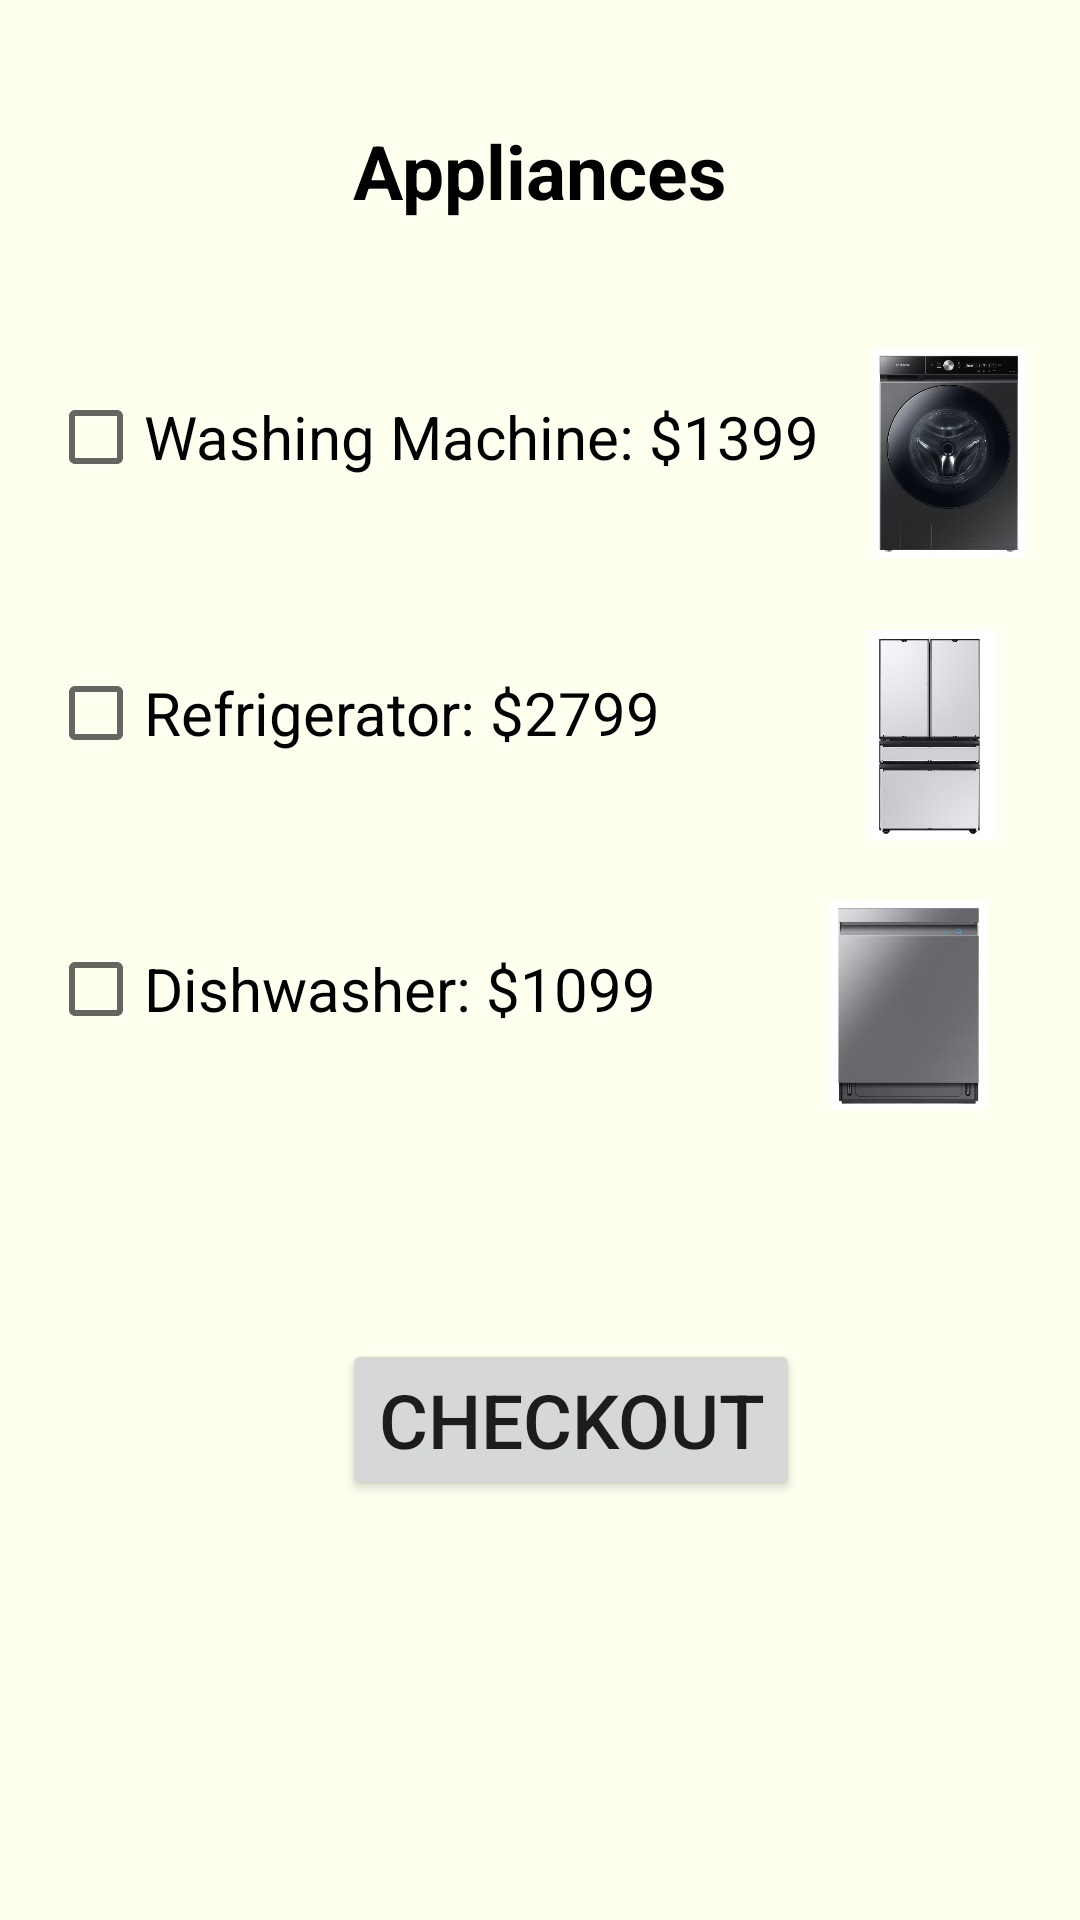

Icons on this 1080px×1920px Android screen, each with the point to tap as (x=x, y=y):
appliances dish washer: (x=908, y=1006)
appliances refrigerator: (x=929, y=736)
